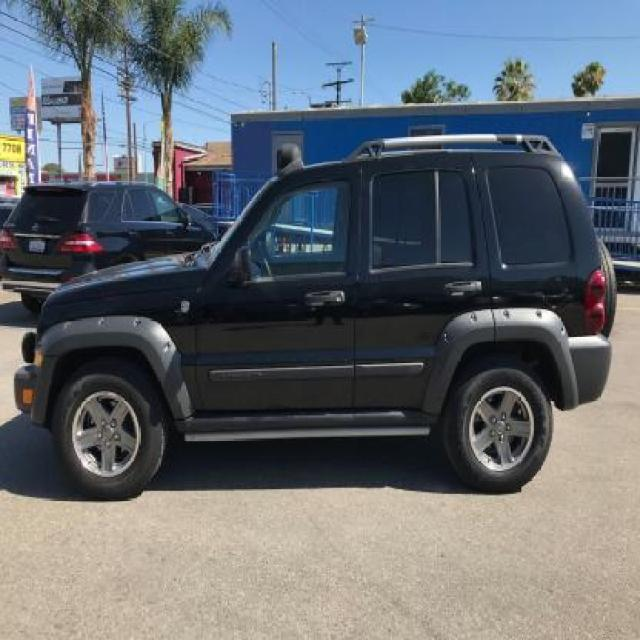Jeep: (16, 136, 618, 495)
